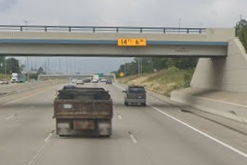1: (119, 38, 124, 46)
4: (122, 38, 129, 46)
6: (133, 38, 140, 46)
overheadsign: (117, 37, 147, 47)
